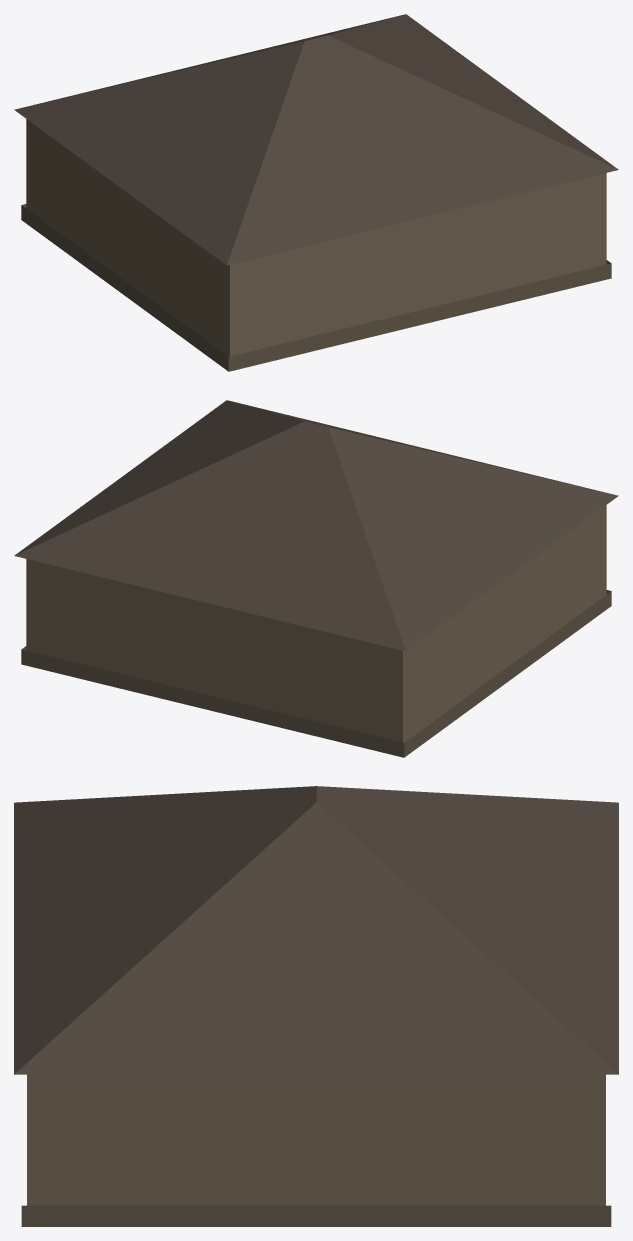
The model's file is zoo-a06584.glb.
3 renders of one model, top to bottom at view 1: azimuth 30°, elevation 25°; view 2: azimuth 150°, elevation 25°; view 3: azimuth 270°, elevation 25°, orthographic. The views are drawn at different scales.
Visible parts, largest first — view 1: zoo_a06584; view 2: zoo_a06584; view 3: zoo_a06584.
Part boxes in pixels (x1,y1,x2,y2): zoo_a06584: [14, 14, 618, 371]; zoo_a06584: [14, 400, 618, 757]; zoo_a06584: [14, 786, 618, 1226].
Bounding box in the file's own units: 15 × 7.71 × 14.1.
